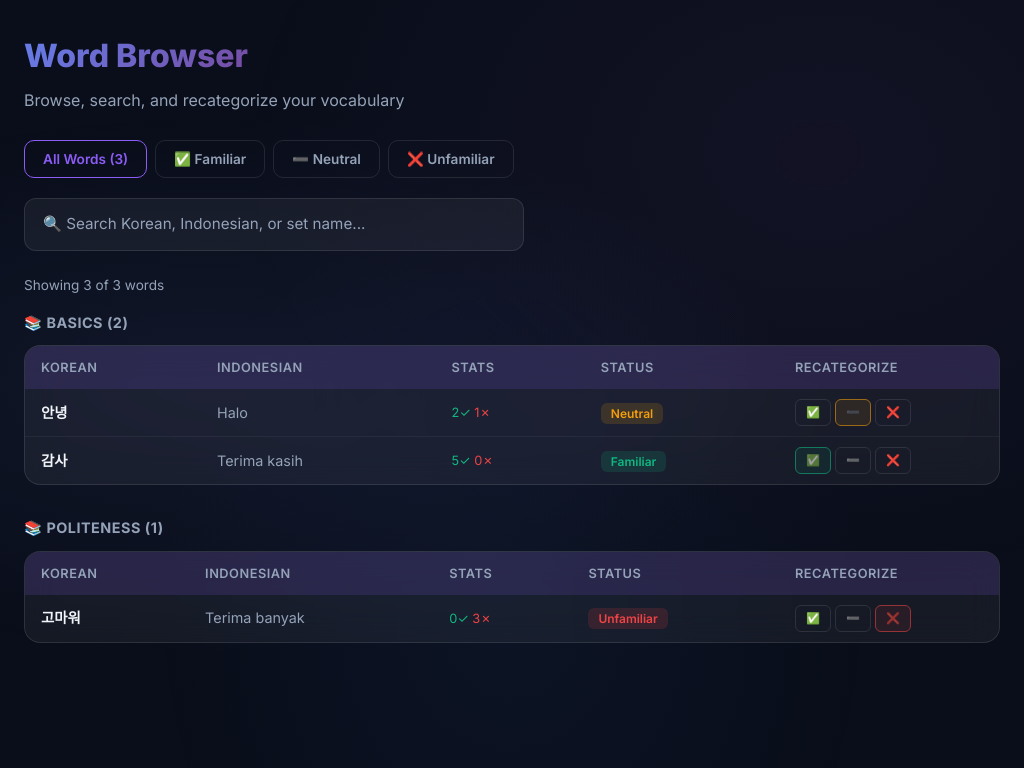
Test case: WordBrowser › search filters cards by back/Indonesian text
In the field with placeholder "🔍 Search Korean, Indonesian, or set name...": (274, 225) top-left (24, 198), bottom-right (524, 251), type "Terima"
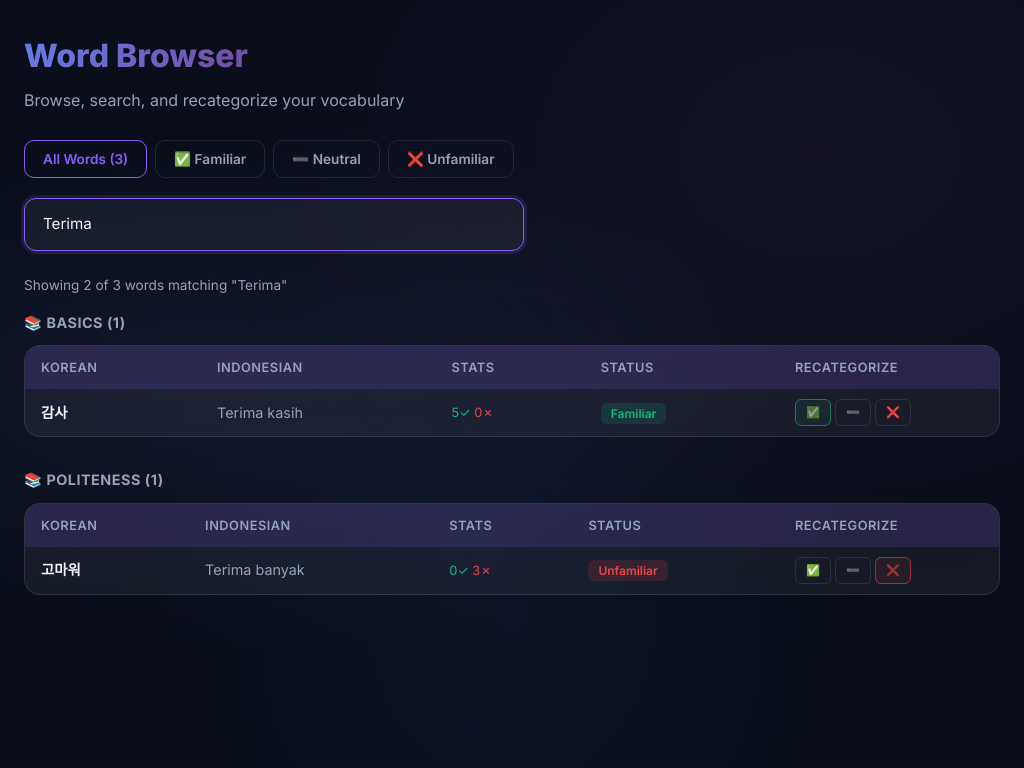
Expected: the text "감사" is shown, top-left (25, 389), bottom-right (201, 436)
Now the text "안녕" is gone
